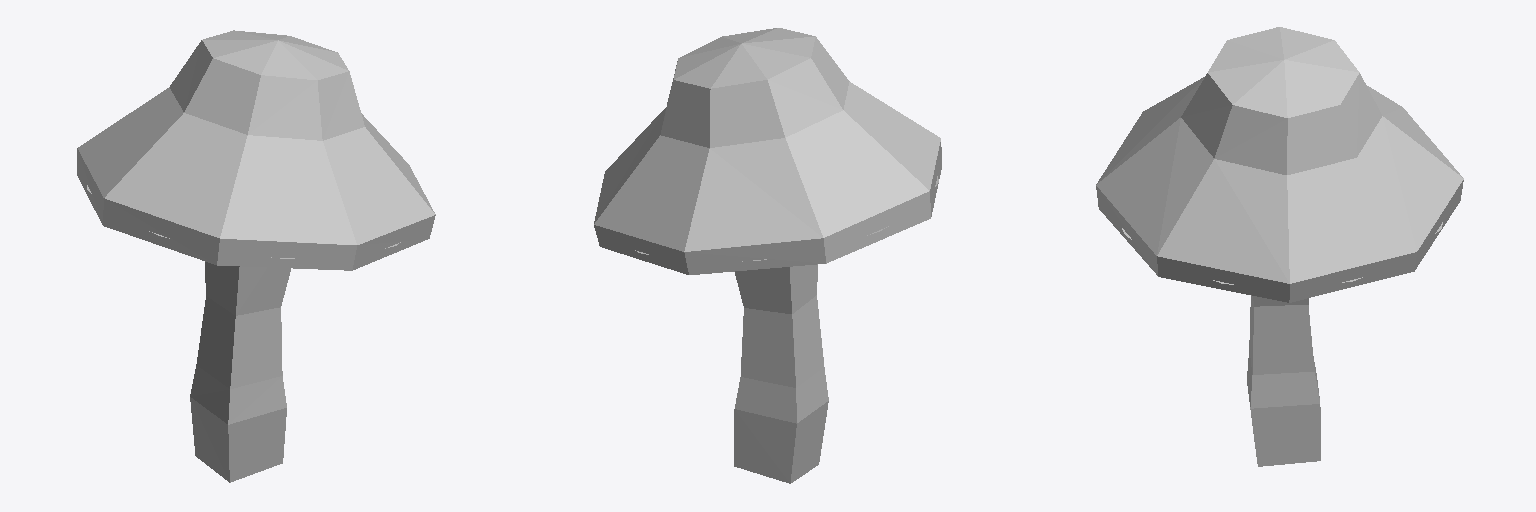
File: mushroom type 2.obj
3 views of the same model, side by side, from view 1: azimuth 30°, elevation 25°; view 2: azimuth 150°, elevation 25°; view 3: azimuth 270°, elevation 25° (orthographic).
Parts seen in each view (by area): view 1: Mushroom_02_Mesh polySurface10; view 2: Mushroom_02_Mesh polySurface10; view 3: Mushroom_02_Mesh polySurface10.
Boxes of the visible parts, box(x1,y1,x2,y2) form: Mushroom_02_Mesh polySurface10: box(77, 30, 435, 482); Mushroom_02_Mesh polySurface10: box(594, 28, 941, 483); Mushroom_02_Mesh polySurface10: box(1096, 27, 1463, 466).
Size of the model in its own units: 4.07 by 5.12 by 4.1.